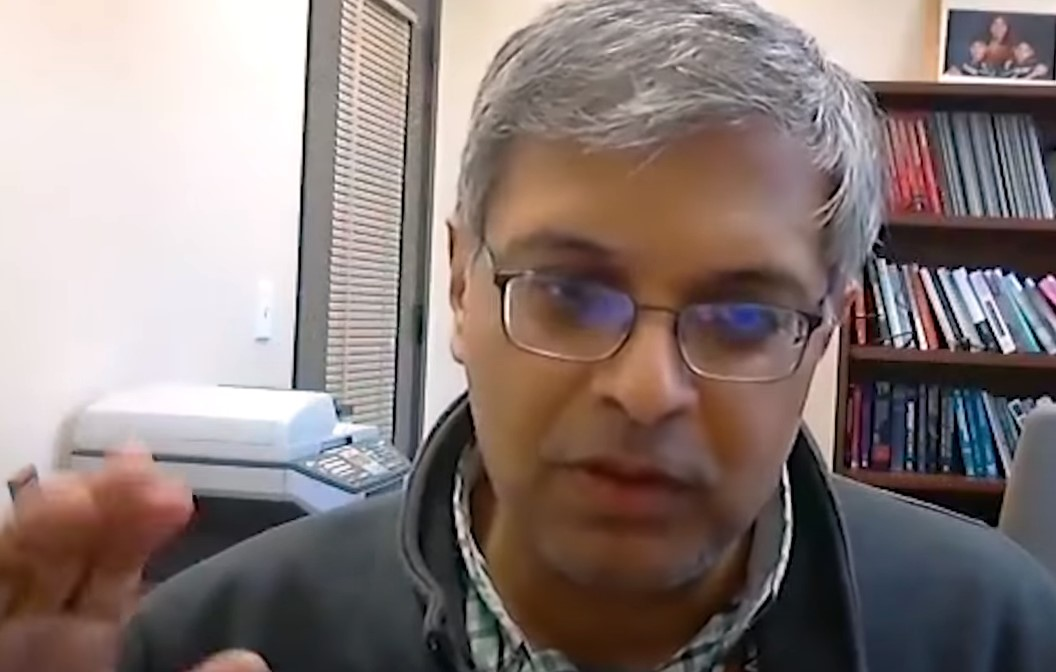face_no_mask: (447, 70, 837, 595)
